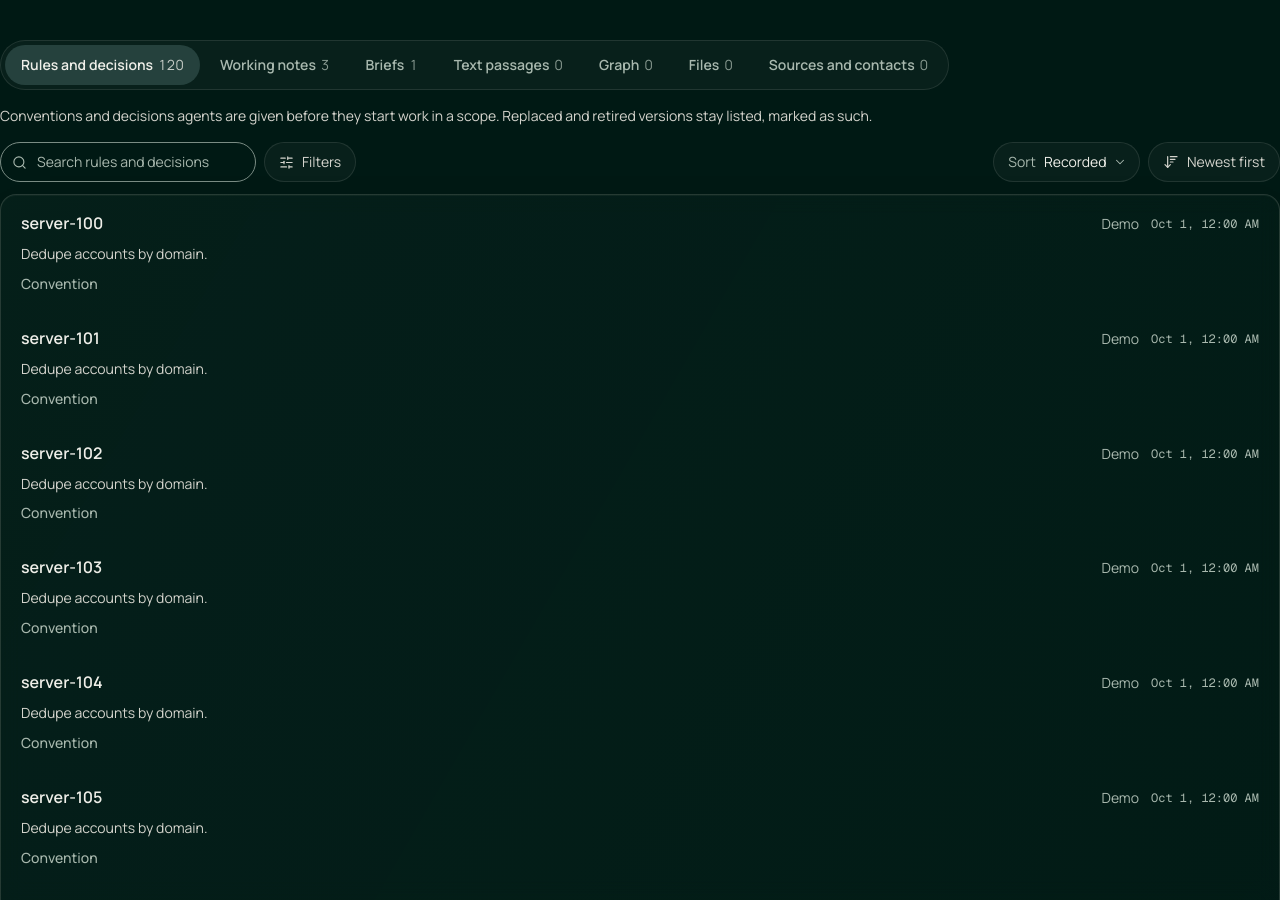
Test: Explore pages in the URL › starts again at page 1 when a filter shrinks the list below the current page
Expected: the text "server-100" is shown, [21, 211, 103, 235]
Step 1. Click the button "Filters" → (310, 162), box [264, 142, 356, 182]
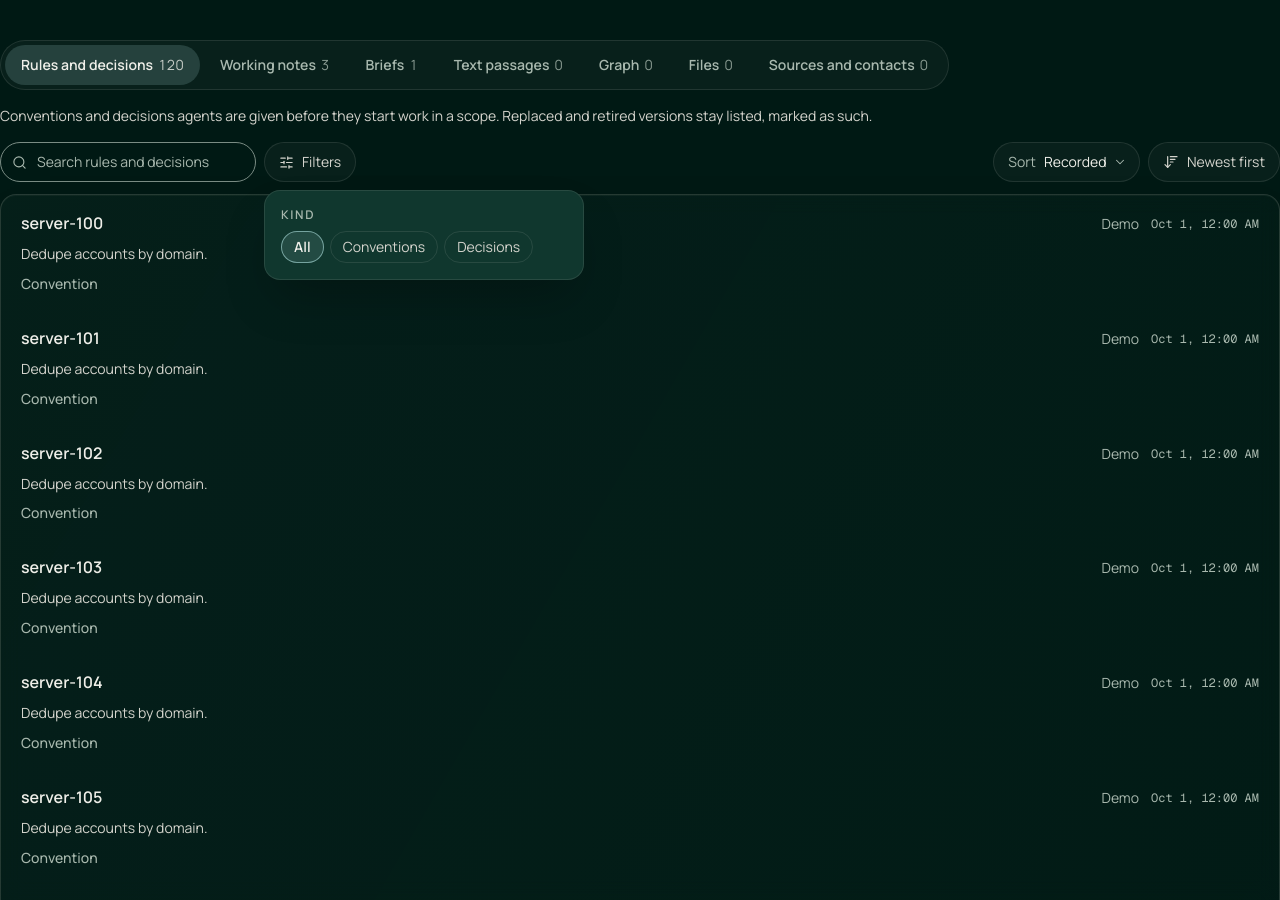
Step 2. Click the button "Decisions" → (489, 247), box [444, 231, 533, 263]
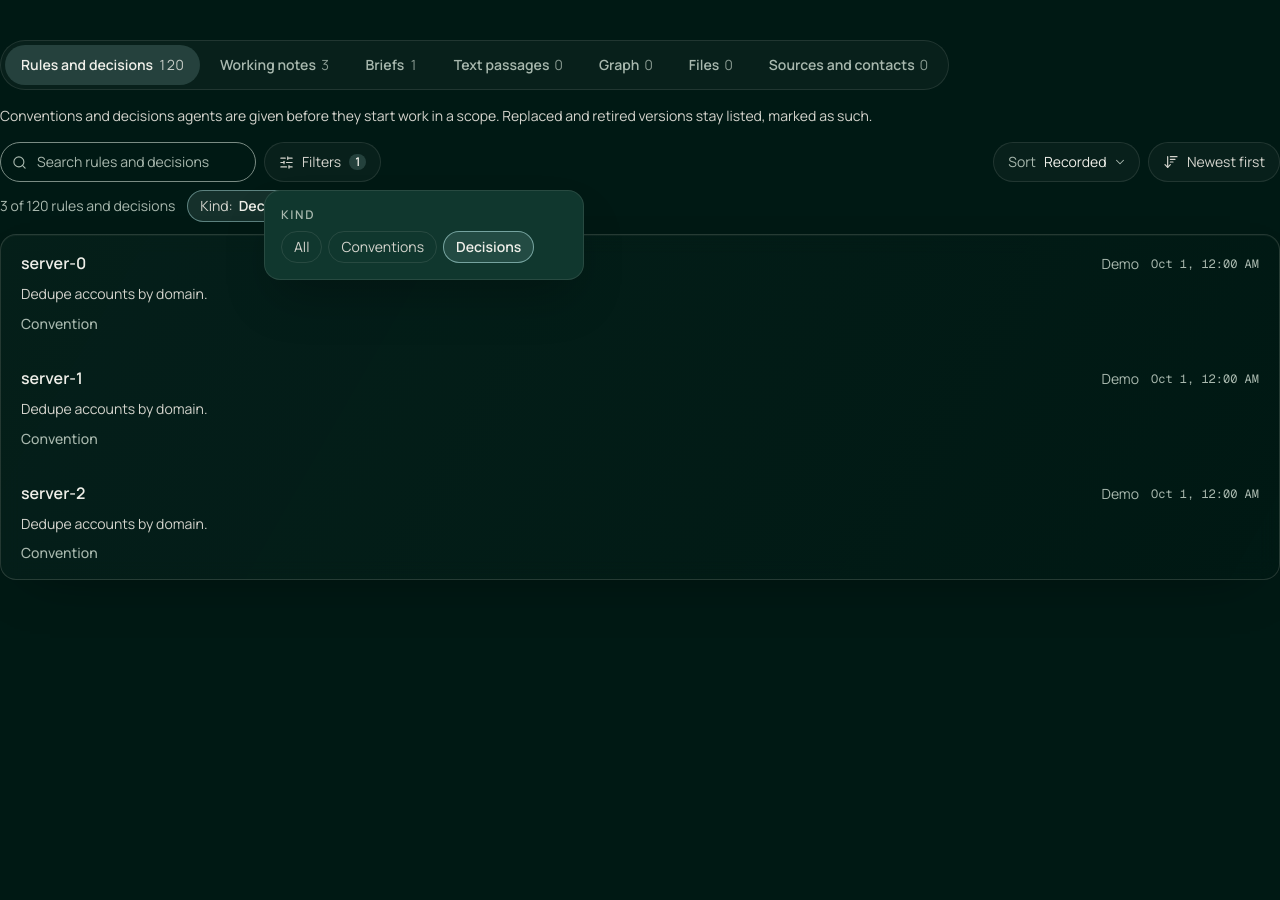
Now the text "server-0" is shown, box [21, 251, 86, 275]
